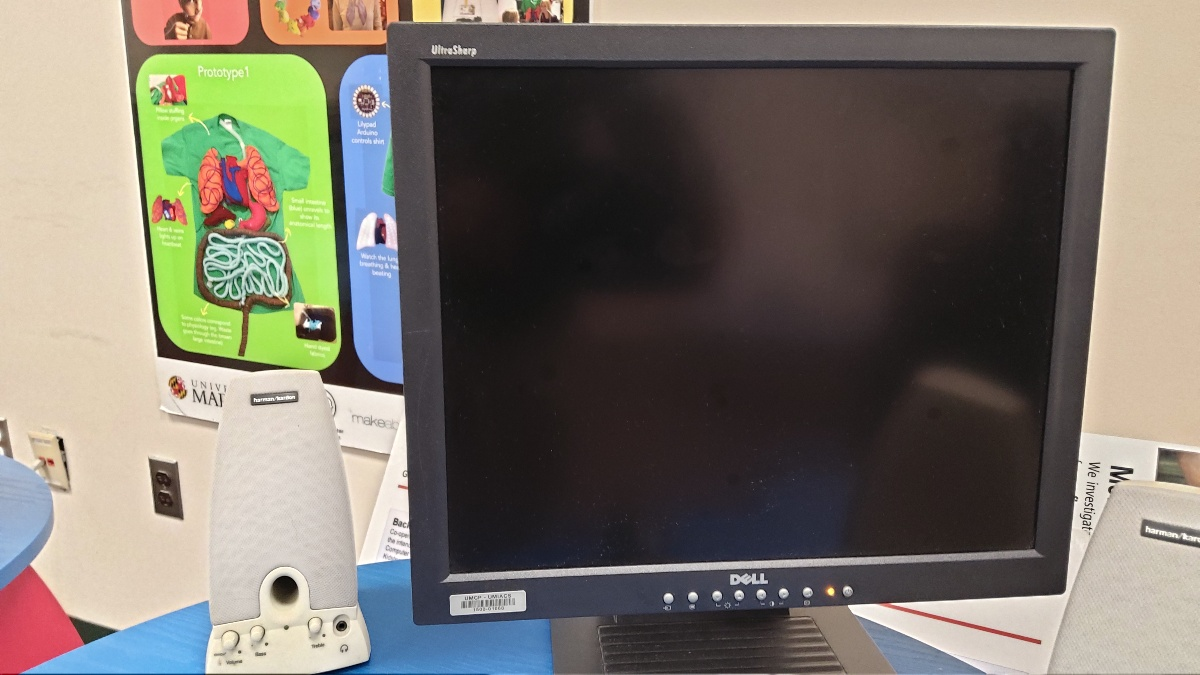monitor: (374, 9, 1122, 645)
